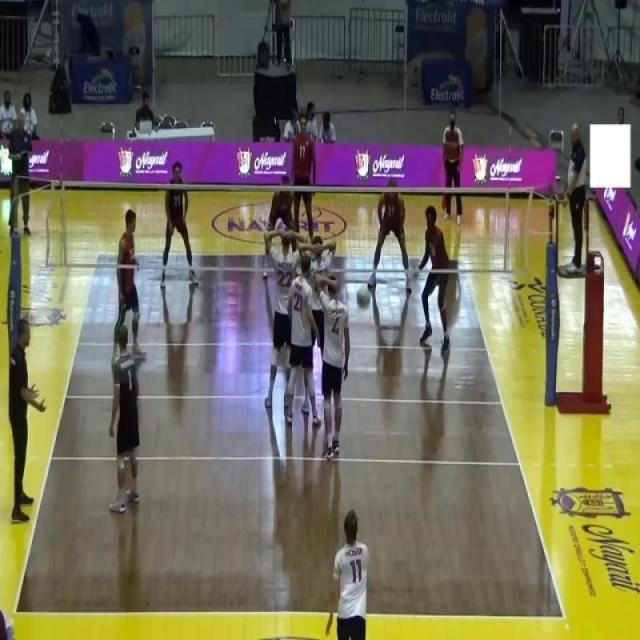volleyball: (356, 287, 371, 311)
